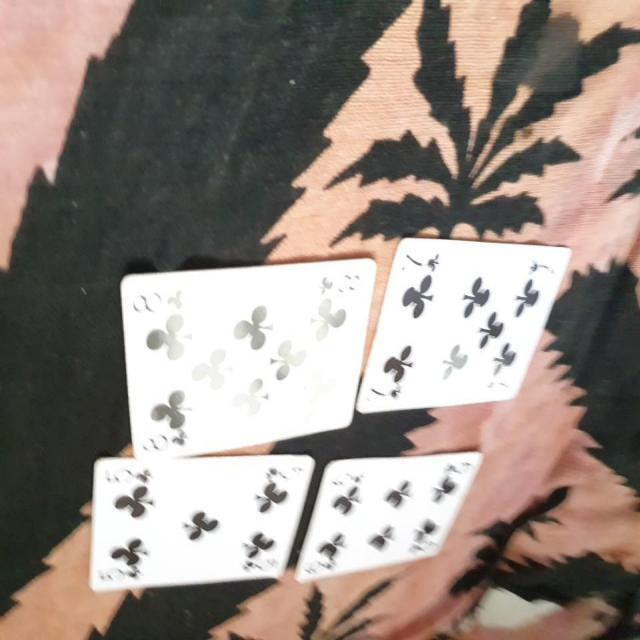5 Trefoils: (89, 453, 312, 594)
6 Trefoils: (294, 451, 483, 585)
7 Trefoils: (355, 235, 574, 414)
8 Trefoils: (118, 257, 377, 458)
